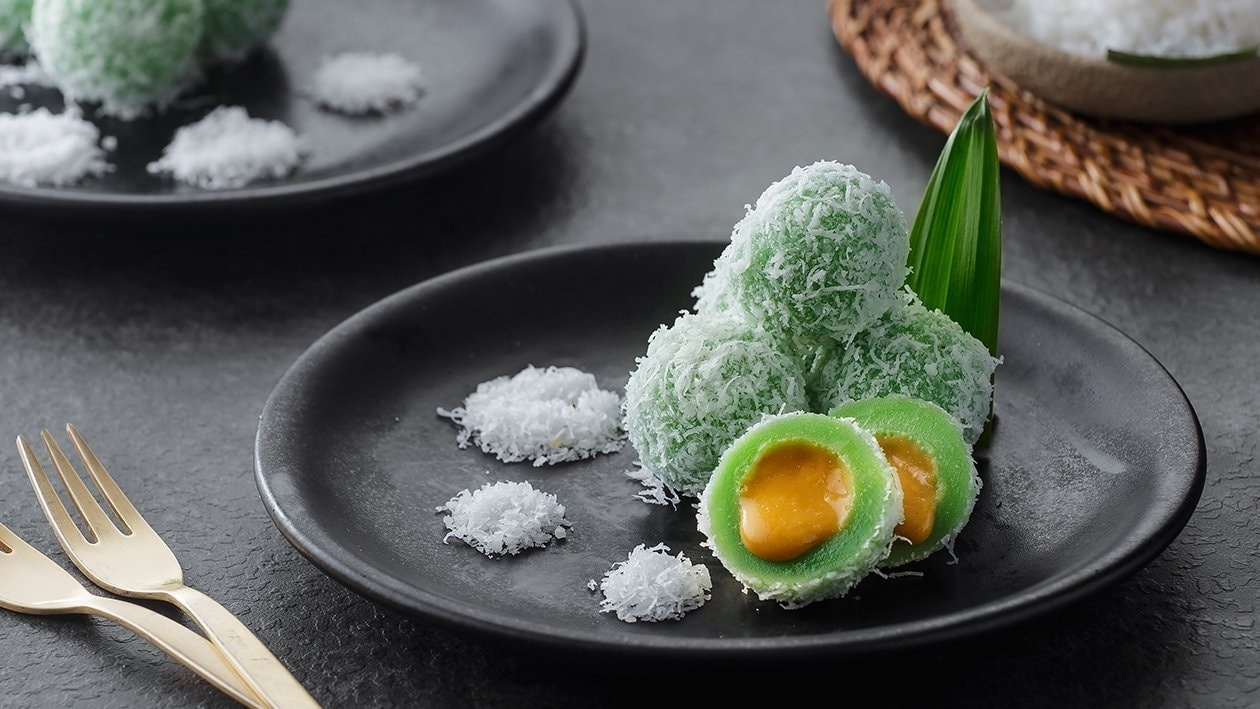klepon: (669, 376, 1015, 620), (719, 149, 927, 343)
